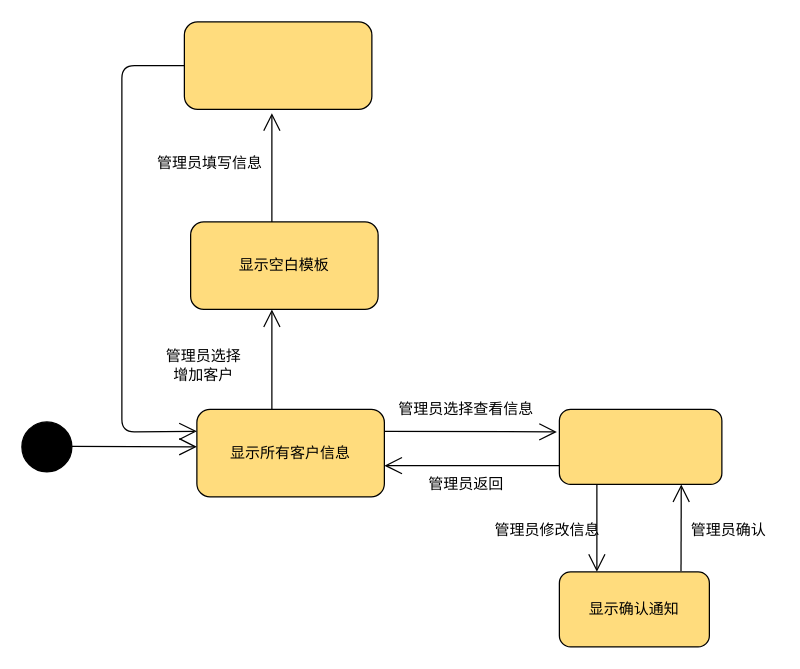
The diagram is 800 pixels wide and 669 high, and some of its shapes have lost their labels. The box of each missing label's shape, as (x1, y1, x2, y2) in pixels:
显示客户信息: (558, 408, 722, 484)
显示添加成功: (183, 21, 372, 109)
